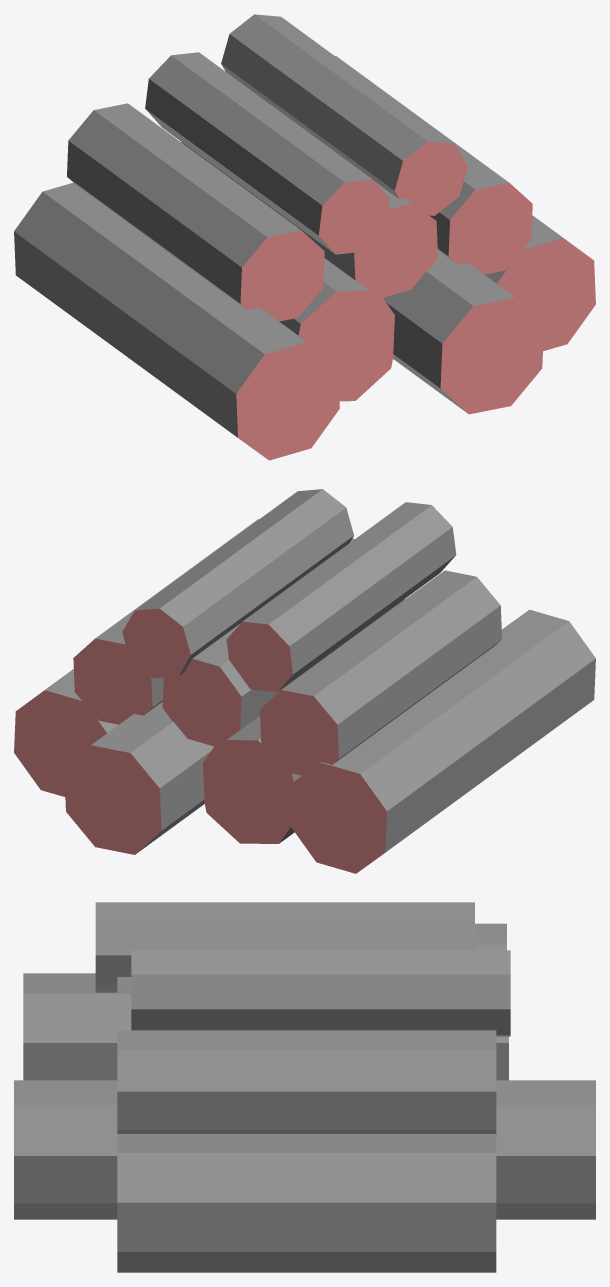
Rendered from V_Obj_Orc_S__Orc_Obj_wood01.gltf.
The picture shows the model from 3 angles, top to bottom: view 1: azimuth 30°, elevation 25°; view 2: azimuth 150°, elevation 25°; view 3: azimuth 270°, elevation 25°; orthographic projection. The views are drawn at different scales.
Visible parts, largest first — view 1: Orc_Obj_wood01; view 2: Orc_Obj_wood01; view 3: Orc_Obj_wood01.
Part boxes in pixels (x1,y1,x2,y2): Orc_Obj_wood01: [14, 14, 595, 460]; Orc_Obj_wood01: [14, 489, 595, 873]; Orc_Obj_wood01: [14, 902, 595, 1272].
Size of the model in its own units: 0.6305 by 0.3525 by 0.723.
